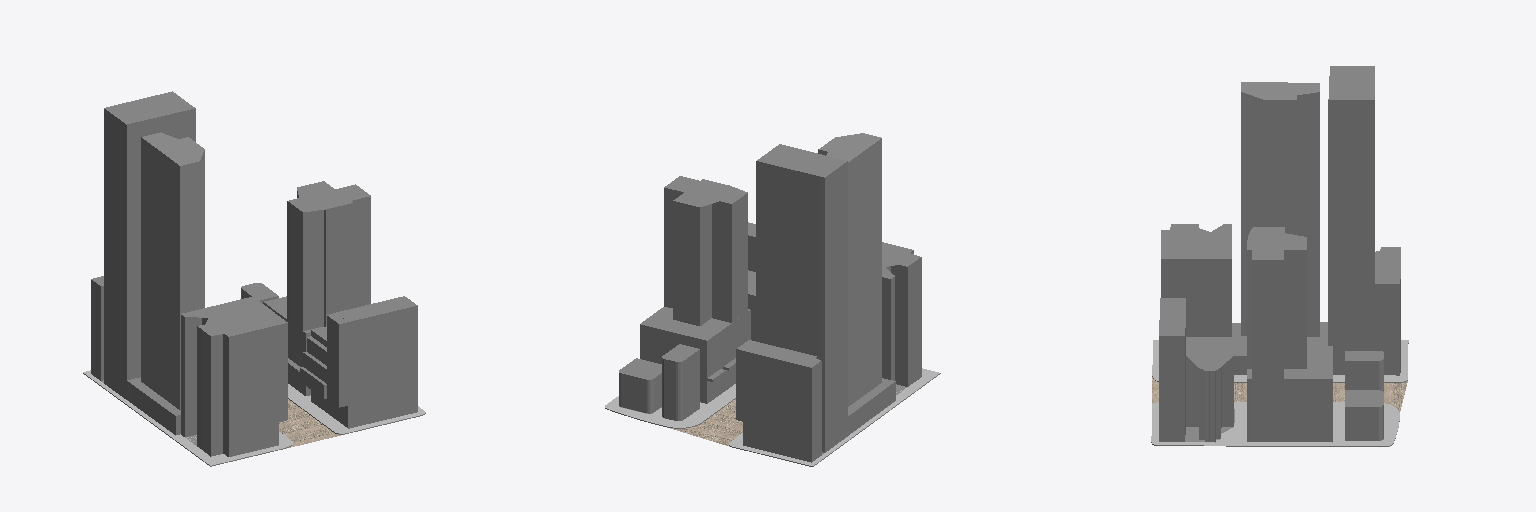
The picture shows the model from 3 angles: view 1: azimuth 30°, elevation 25°; view 2: azimuth 150°, elevation 25°; view 3: azimuth 270°, elevation 25°; orthographic projection.
Parts seen in each view (by area): view 1: Mesh1 Group1 Model, Mesh10 skpAE5E1 Model, Mesh3 skpAE5E1 Model, Mesh13 skpAE5E1 Model, Mesh2 skpAE5E1 Model, Mesh8 skpAE5E1 Model; view 2: Mesh3 skpAE5E1 Model, Mesh13 skpAE5E1 Model, Mesh1 Group1 Model, Mesh8 skpAE5E1 Model, Mesh10 skpAE5E1 Model, Mesh11 skpAE5E1 Model, Mesh12 skpAE5E1 Model, Mesh2 skpAE5E1 Model; view 3: Mesh1 Group1 Model, Mesh13 skpAE5E1 Model, Mesh3 skpAE5E1 Model, Mesh2 skpAE5E1 Model, Mesh10 skpAE5E1 Model, Mesh8 skpAE5E1 Model, Mesh12 skpAE5E1 Model, Mesh11 skpAE5E1 Model.
Boxes of the visible parts, box(x1,y1,x2,y2) form: Mesh1 Group1 Model: box(83, 132, 425, 466); Mesh10 skpAE5E1 Model: box(127, 297, 287, 456); Mesh3 skpAE5E1 Model: box(104, 91, 195, 399); Mesh13 skpAE5E1 Model: box(263, 181, 370, 395); Mesh2 skpAE5E1 Model: box(300, 296, 417, 428); Mesh8 skpAE5E1 Model: box(91, 276, 103, 380); Mesh3 skpAE5E1 Model: box(756, 144, 847, 452); Mesh13 skpAE5E1 Model: box(640, 176, 750, 403); Mesh1 Group1 Model: box(605, 133, 940, 466); Mesh8 skpAE5E1 Model: box(736, 340, 821, 462); Mesh10 skpAE5E1 Model: box(848, 242, 921, 435); Mesh11 skpAE5E1 Model: box(662, 344, 699, 420); Mesh12 skpAE5E1 Model: box(619, 358, 661, 413); Mesh2 skpAE5E1 Model: box(748, 222, 755, 340); Mesh1 Group1 Model: box(1151, 82, 1408, 446); Mesh13 skpAE5E1 Model: box(1247, 227, 1332, 441); Mesh3 skpAE5E1 Model: box(1328, 66, 1374, 374); Mesh2 skpAE5E1 Model: box(1159, 298, 1233, 441); Mesh10 skpAE5E1 Model: box(1161, 224, 1327, 374); Mesh8 skpAE5E1 Model: box(1375, 247, 1400, 375); Mesh12 skpAE5E1 Model: box(1345, 390, 1383, 440); Mesh11 skpAE5E1 Model: box(1345, 351, 1383, 391).
Bounding box in the file's own units: 48.16 × 58.5 × 49.16.
4 materials, 1 textured.